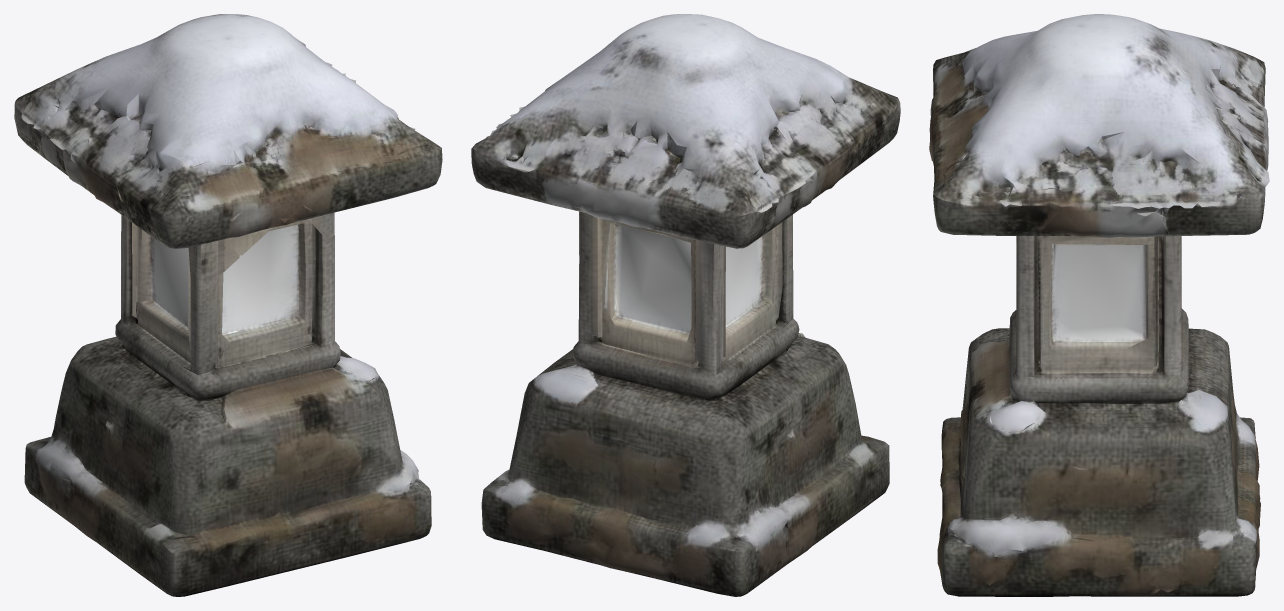
File: toro.glb
3 renders of one model, left to right at view 1: azimuth 30°, elevation 25°; view 2: azimuth 150°, elevation 25°; view 3: azimuth 270°, elevation 25°, orthographic. The views are drawn at different scales.
Parts seen in each view (by area): view 1: toro; view 2: toro; view 3: toro.
Boxes of the visible parts, box(x1,y1,x2,y2) form: toro: box(14, 14, 442, 596); toro: box(471, 14, 900, 596); toro: box(929, 14, 1269, 596).
Size of the model in its own units: 1.06 by 1.7 by 1.04.
1 material, 1 textured.
